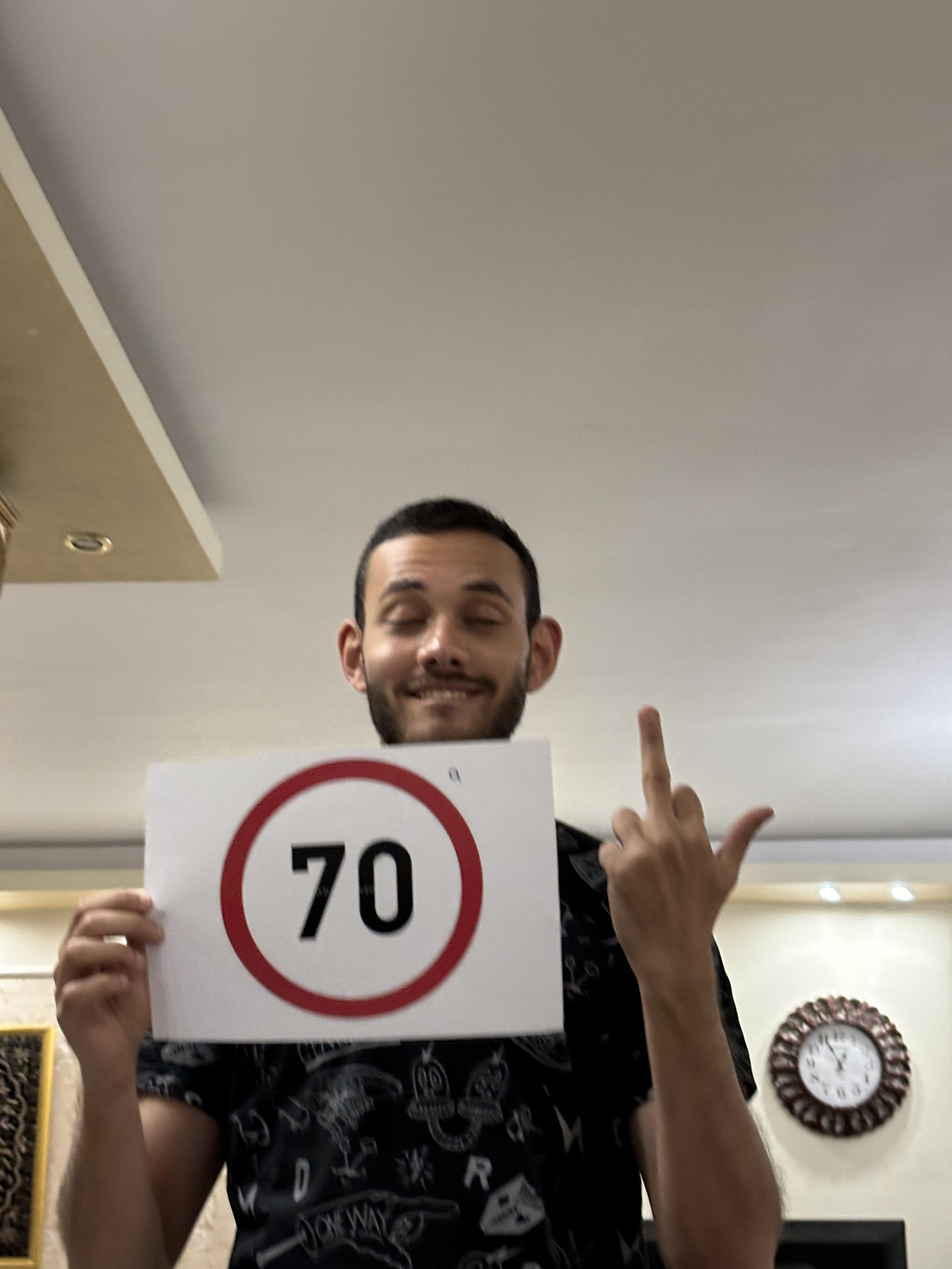70-Speed: (208, 759, 490, 1016)
